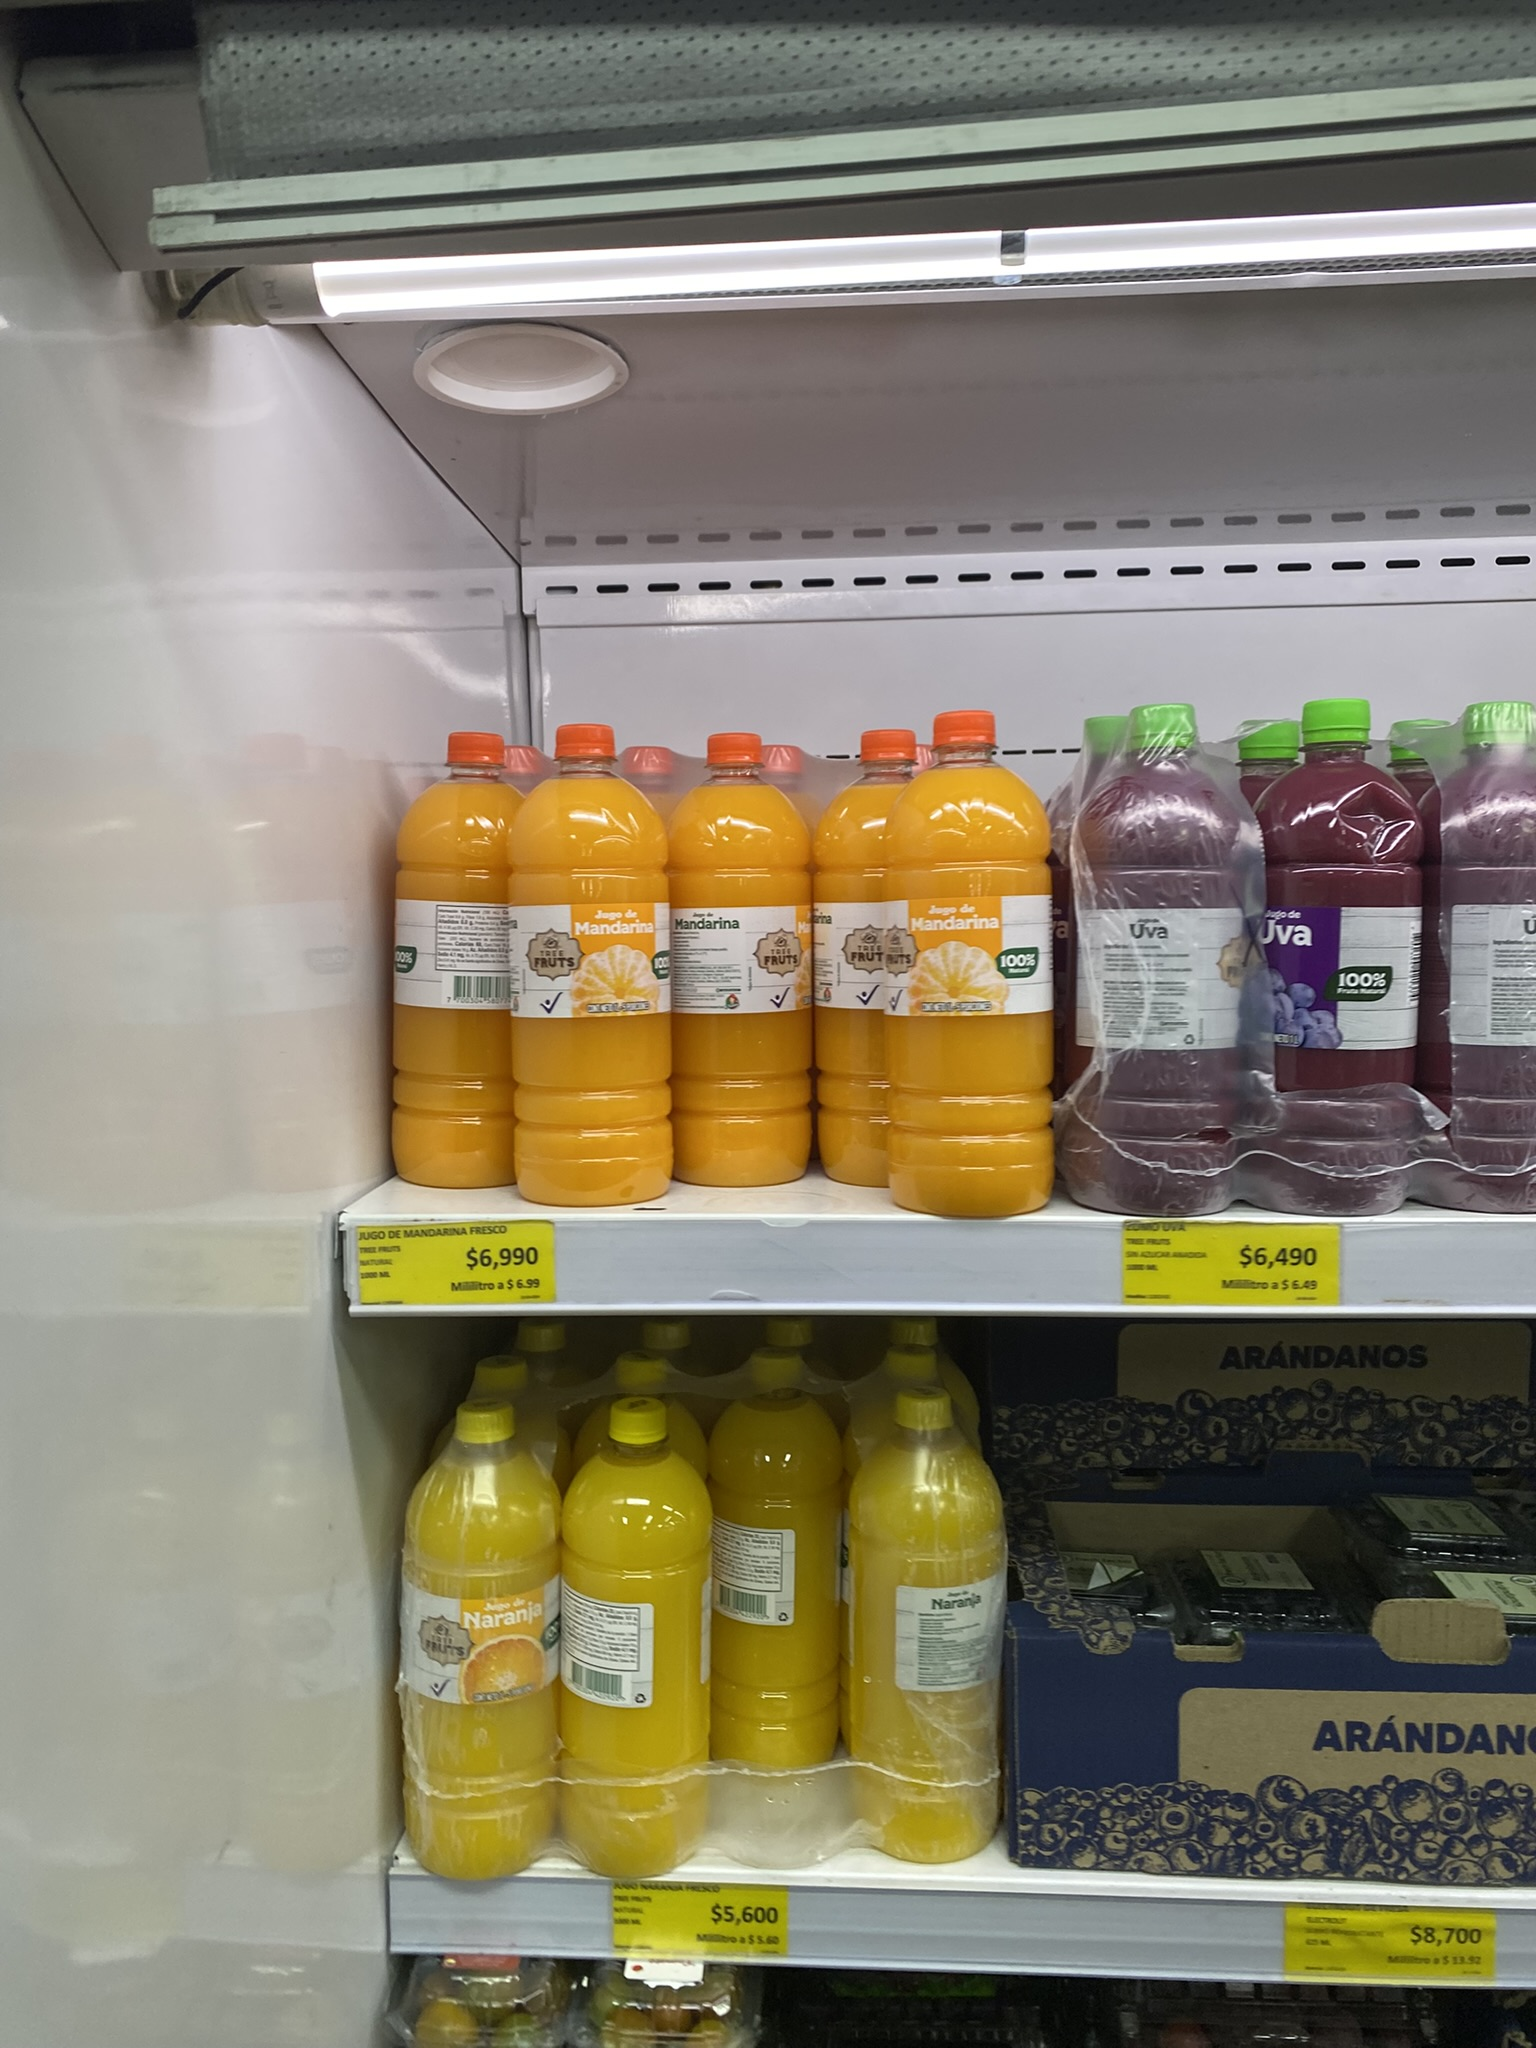Jugo de Mandarina: (896, 691, 1049, 1213), (660, 729, 819, 1187), (522, 715, 668, 1213), (387, 731, 527, 1198), (819, 729, 935, 1179)
